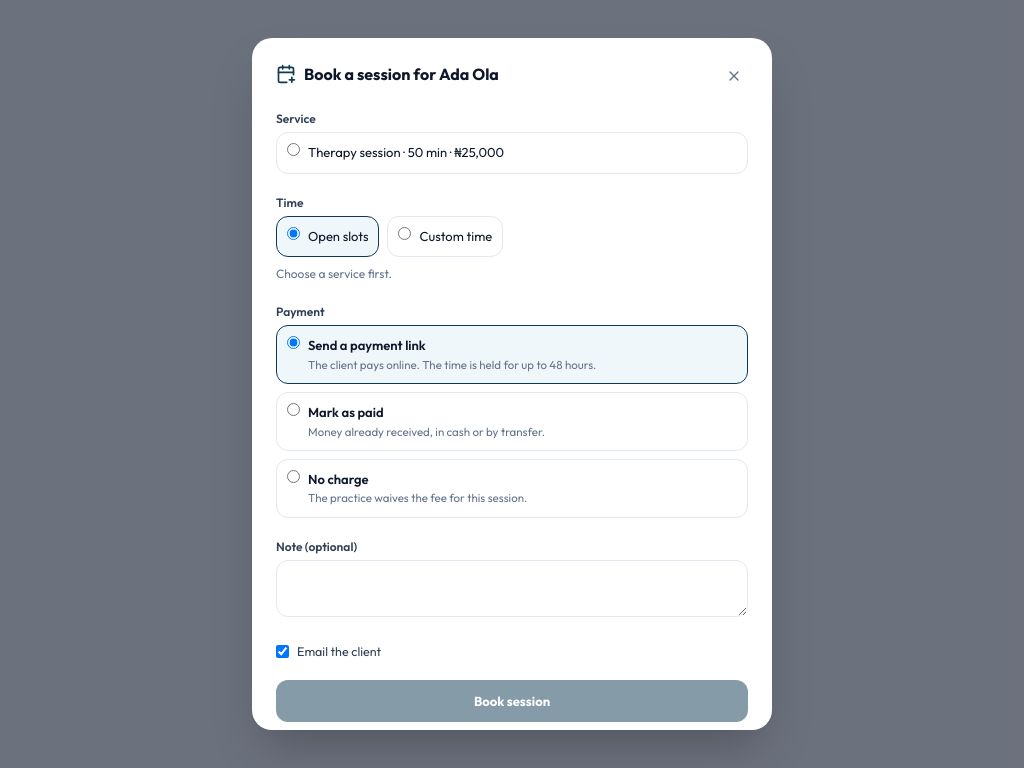
it: StaffBookingDialog › shows the server’s reason when booking fails
Click the radio button labelled "Therapy session · 50 min · ₦25,000" at (294, 150), box [287, 143, 300, 156]
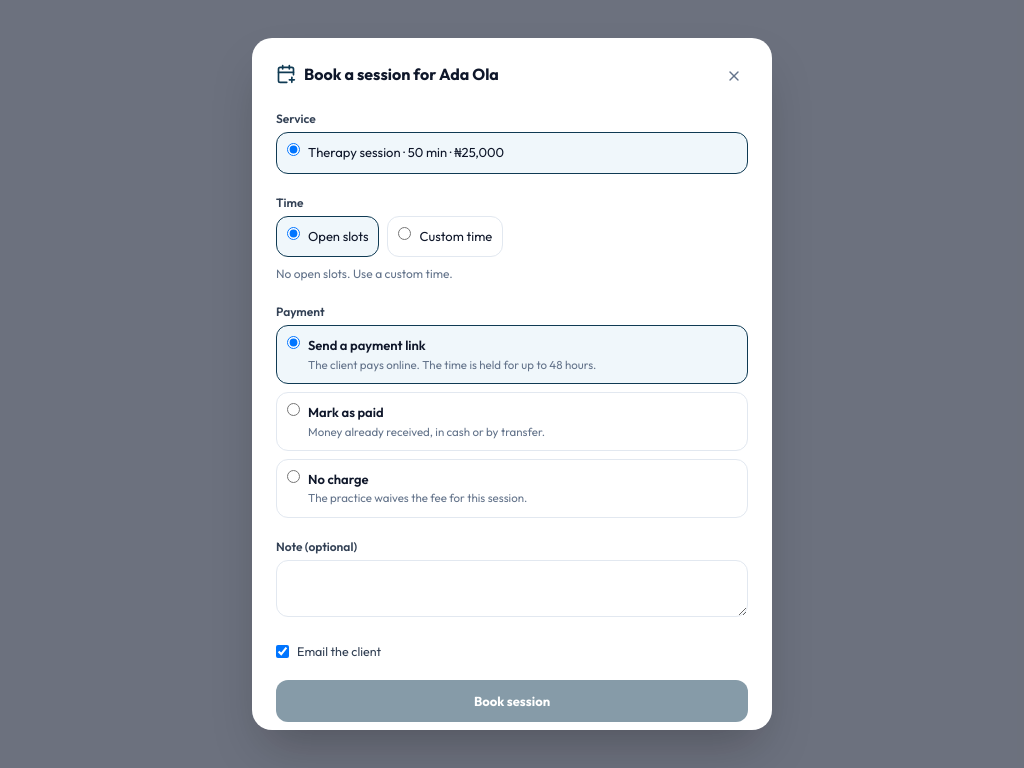
Click the radio button labelled "Custom time" at (405, 233), box [398, 227, 412, 240]
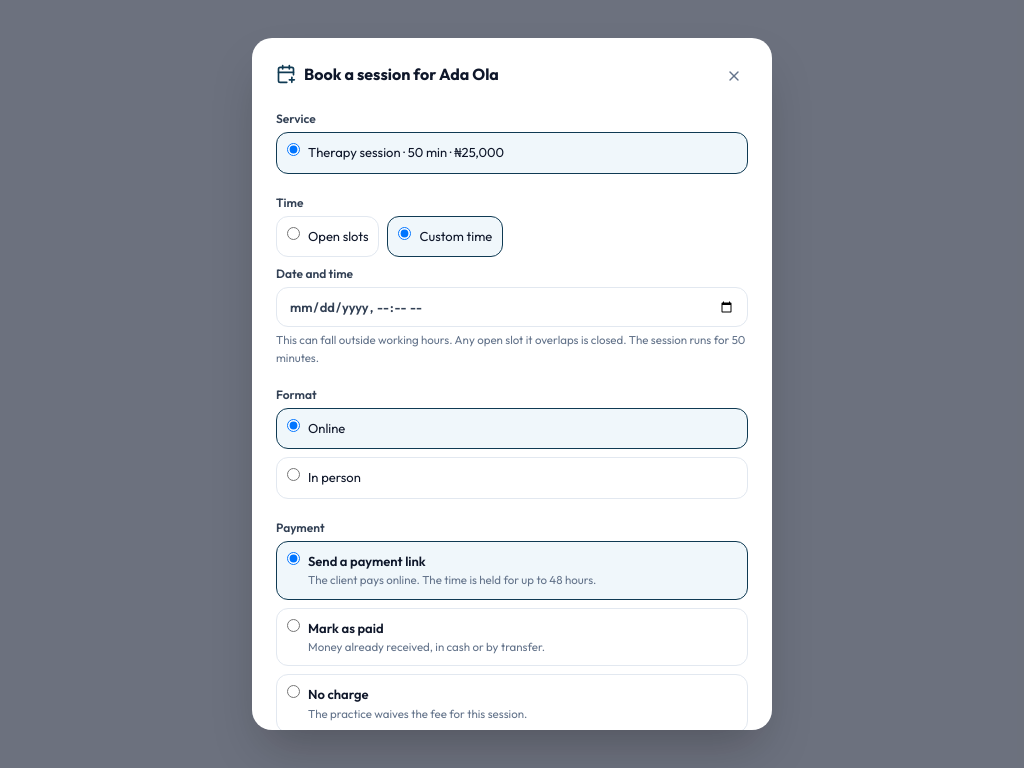
Type "2026-12-01T10:00" into the field labelled "Date and time" at (512, 307), box [276, 287, 748, 327]
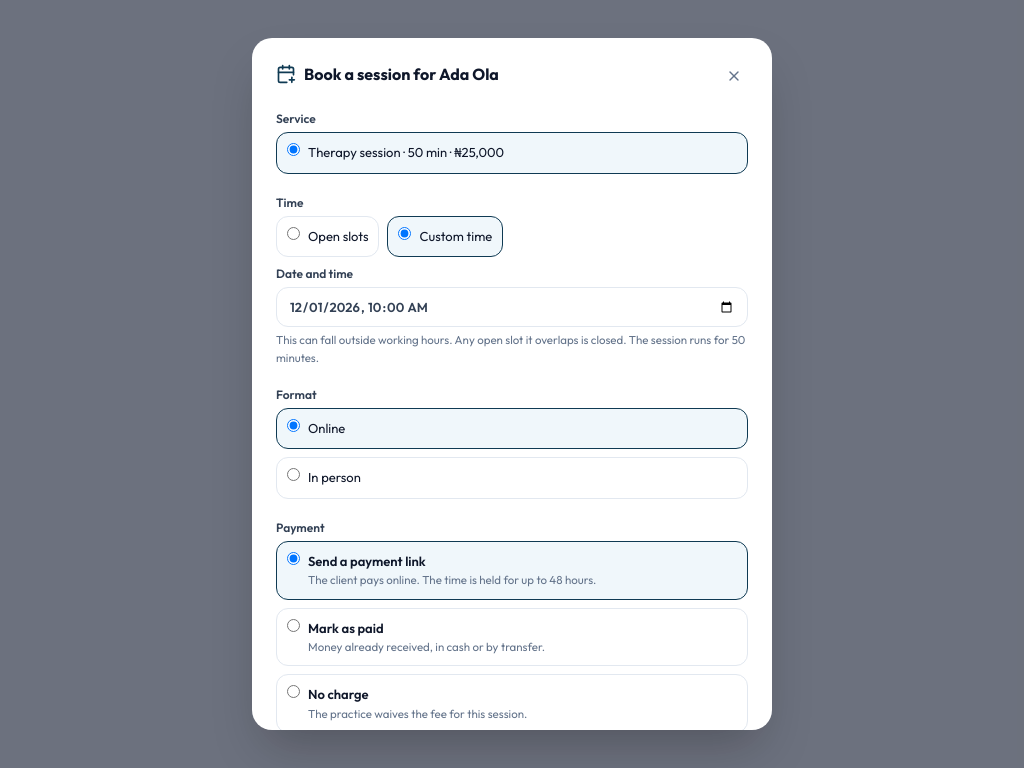
Click the radio button labelled "No charge The practice waives the fee for this session." at (294, 692), box [287, 685, 300, 698]
(page scrolled)
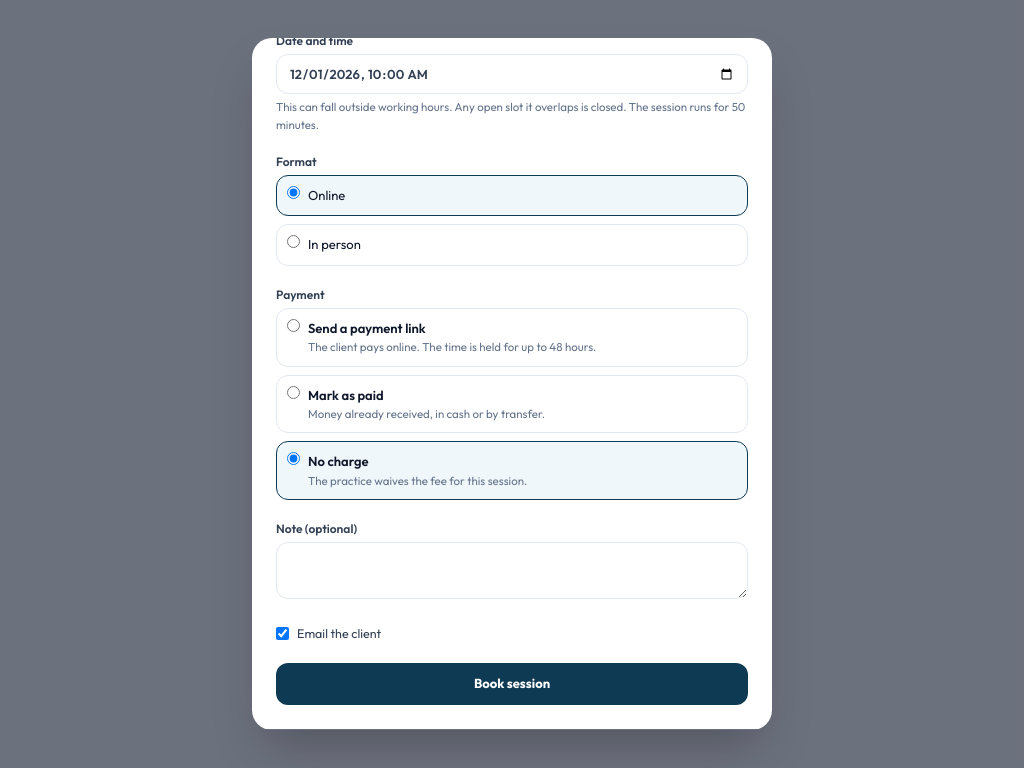
Click the button "Book session" at (512, 684), box [276, 663, 748, 705]
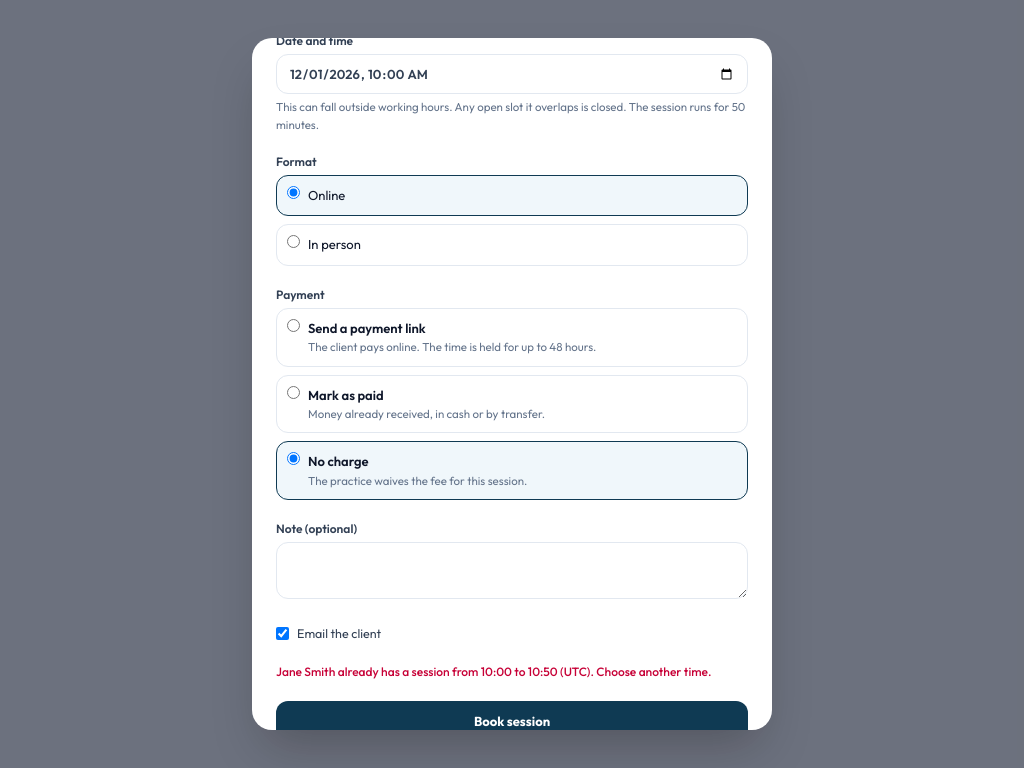
Check: the text "already has a session" is shown, box [276, 664, 711, 679]
